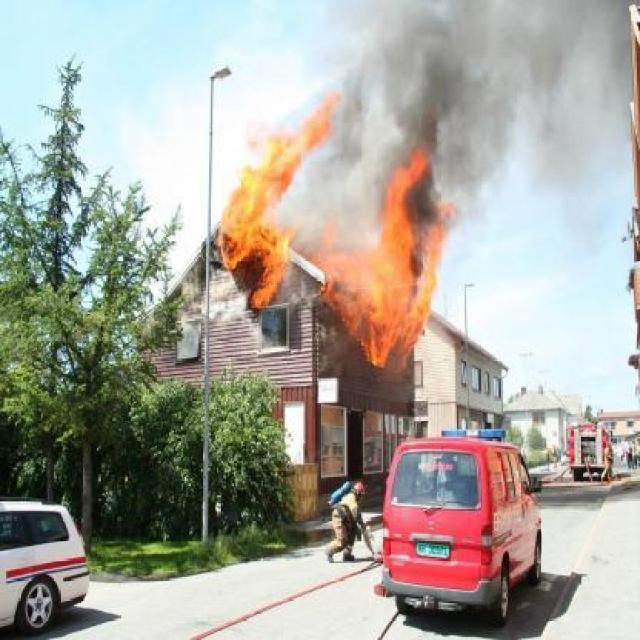Fire: (207, 132, 444, 380)
Smoke: (318, 14, 636, 198)
